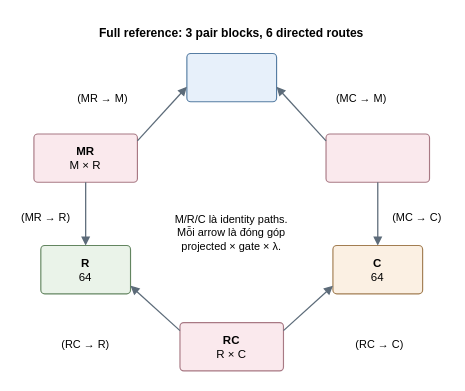
This 465x391 diagram has some shape labels left out. Here are the shapes that lost their labels. From the top down, the centre of each, then its label:
At [231,77]: "M 128".
At [377,157]: "MC M × C".
